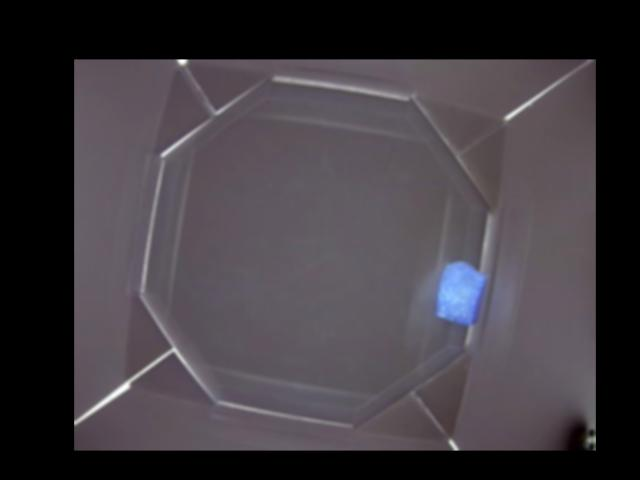Potato: (434, 260, 484, 325)
